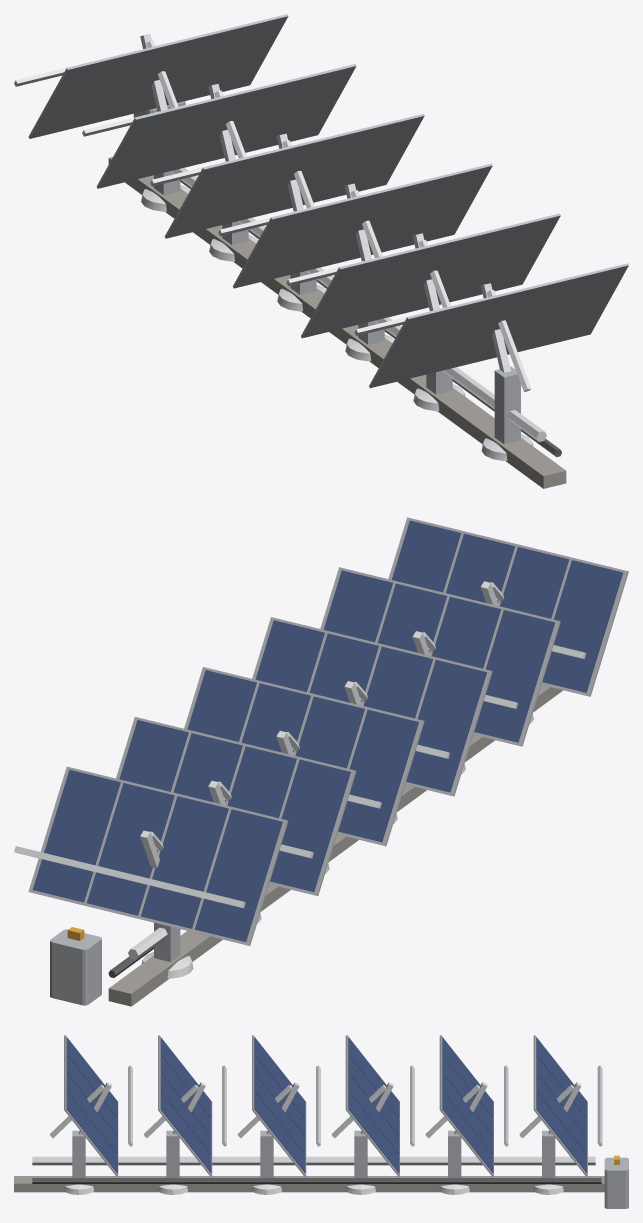
Rendered from solar-array-row-e52454d9.glb.
3 renders of one model, top to bottom at view 1: azimuth 30°, elevation 25°; view 2: azimuth 150°, elevation 25°; view 3: azimuth 270°, elevation 25°, orthographic. The views are drawn at different scales.
Parts seen in each view (by area): view 1: solar-array-row; view 2: solar-array-row; view 3: solar-array-row.
Boxes of the visible parts, bbox=[...] form: solar-array-row: bbox=[14, 14, 628, 488]; solar-array-row: bbox=[14, 517, 628, 1006]; solar-array-row: bbox=[14, 1035, 628, 1208].
Size of the model in its own units: 3 by 2.12 by 10.15.
